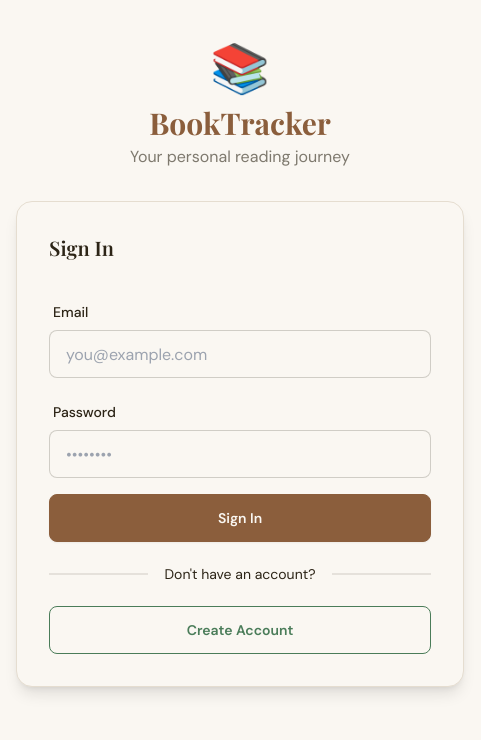
it: LoginPage Component Unit Tests › API Error Handling › should display a fallback error message when the API response has no body
Step 1. Type "user@burch.edu" into the field named "Email Address" → (240, 354), box [49,330,431,378]
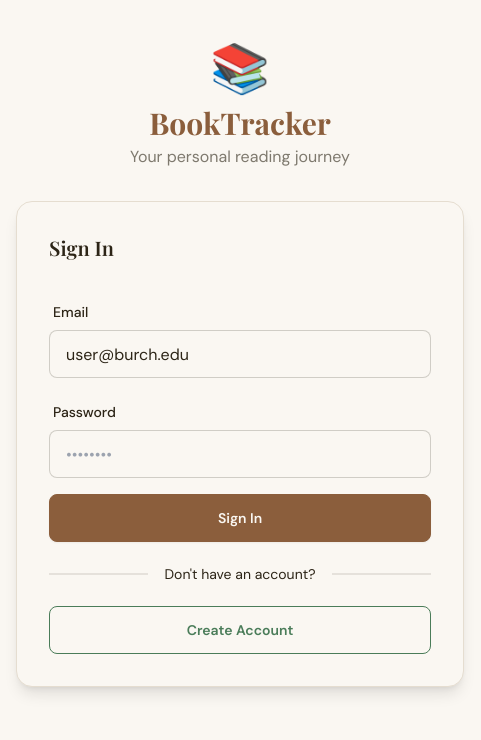
Step 2. Type "anypassword" into the password field labelled "Password" → (240, 454), box [49,430,431,478]
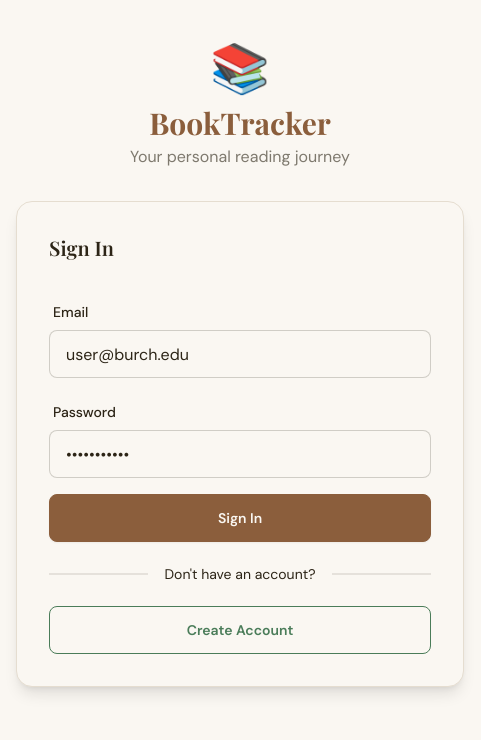
Step 3. Click the button "Sign In" → (240, 518), box [49,494,431,542]
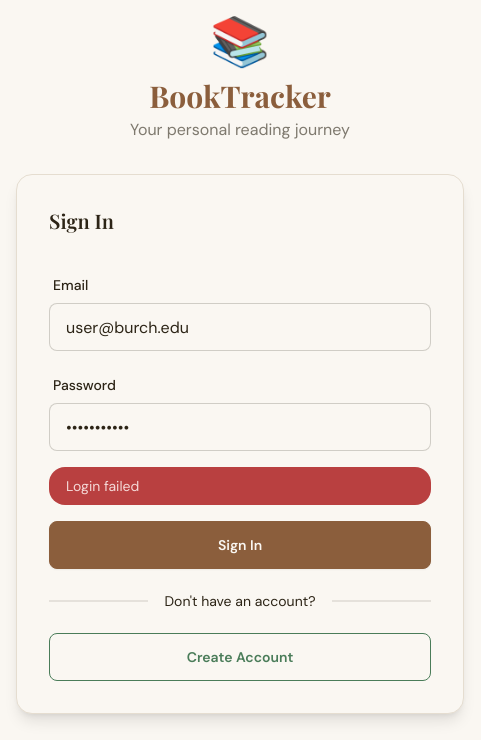
Result: the message reads "Login failed" at [66,477,139,495]
